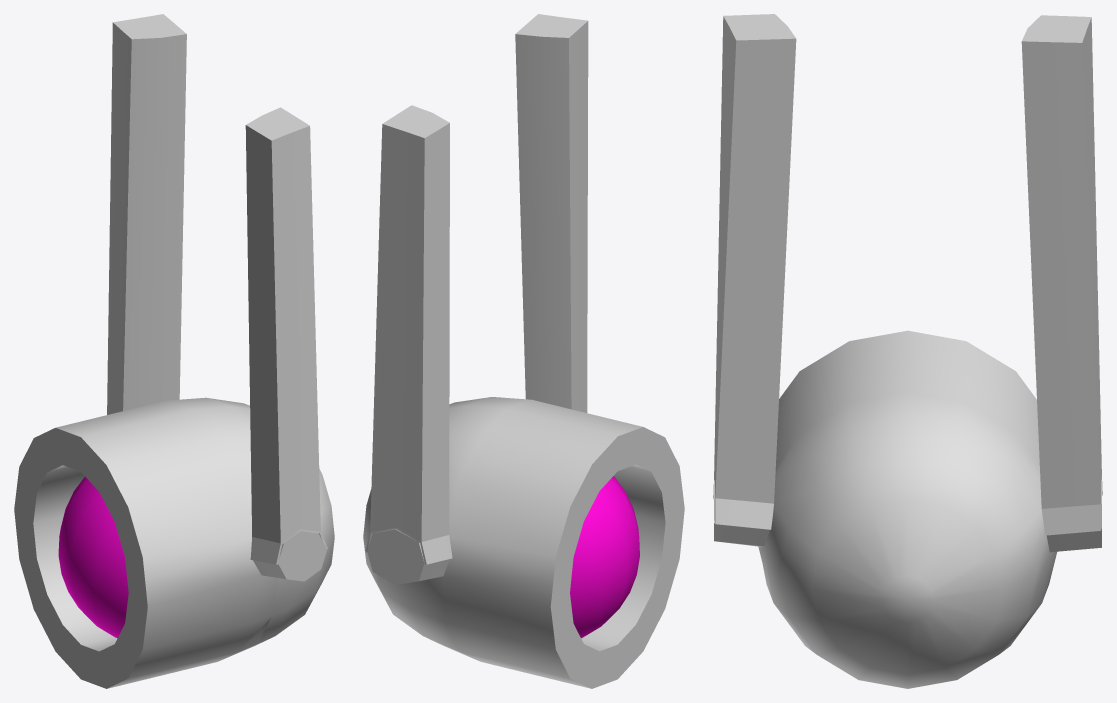
The model's file is Projector_UV.fbx.
3 views of the same model, side by side, from view 1: azimuth 30°, elevation 25°; view 2: azimuth 150°, elevation 25°; view 3: azimuth 270°, elevation 25° (orthographic). The views are drawn at different scales.
Parts seen in each view (by area): view 1: Support, Base_Projecteur, Ampoule; view 2: Support, Base_Projecteur, Ampoule; view 3: Base_Projecteur, Support.
Part boxes in pixels (x1,y1,x2,y2): Support: (107,14,327,564); Base_Projecteur: (14,397,334,688); Ampoule: (58,476,128,638); Support: (365,14,588,564); Base_Projecteur: (363,397,684,688); Ampoule: (570,476,639,638); Base_Projecteur: (714,330,1101,688); Support: (713,14,1102,535).
Bounding box in the file's own units: 35.85 × 80.21 × 43.29.
